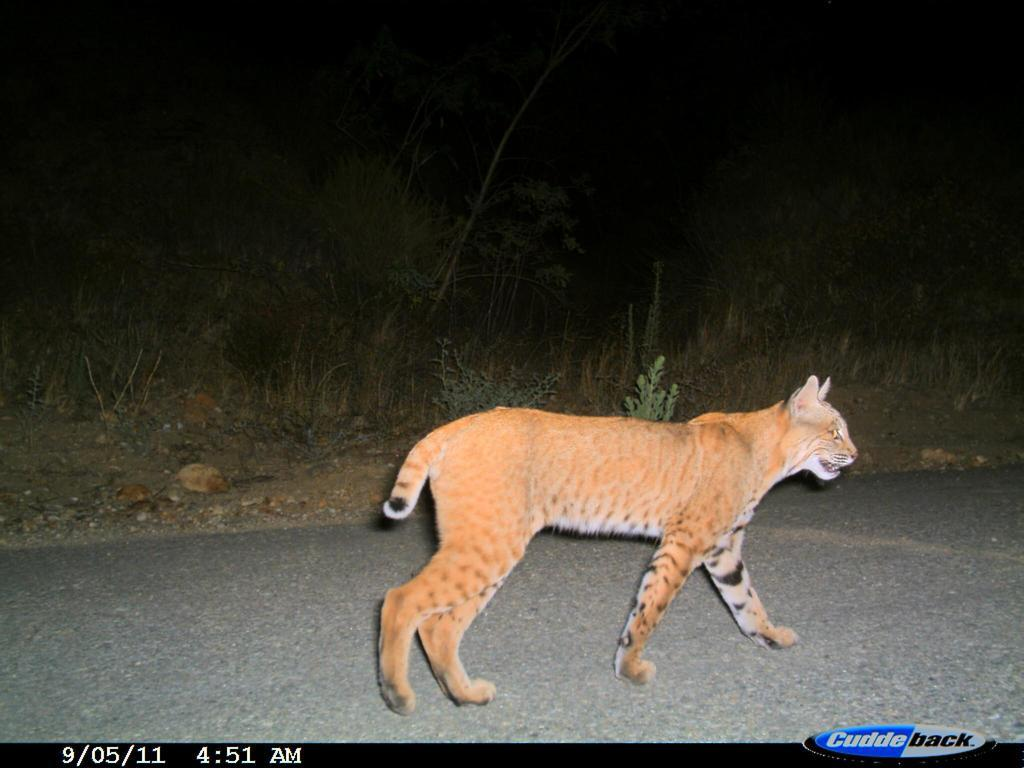bobcat: (358, 367, 862, 724)
